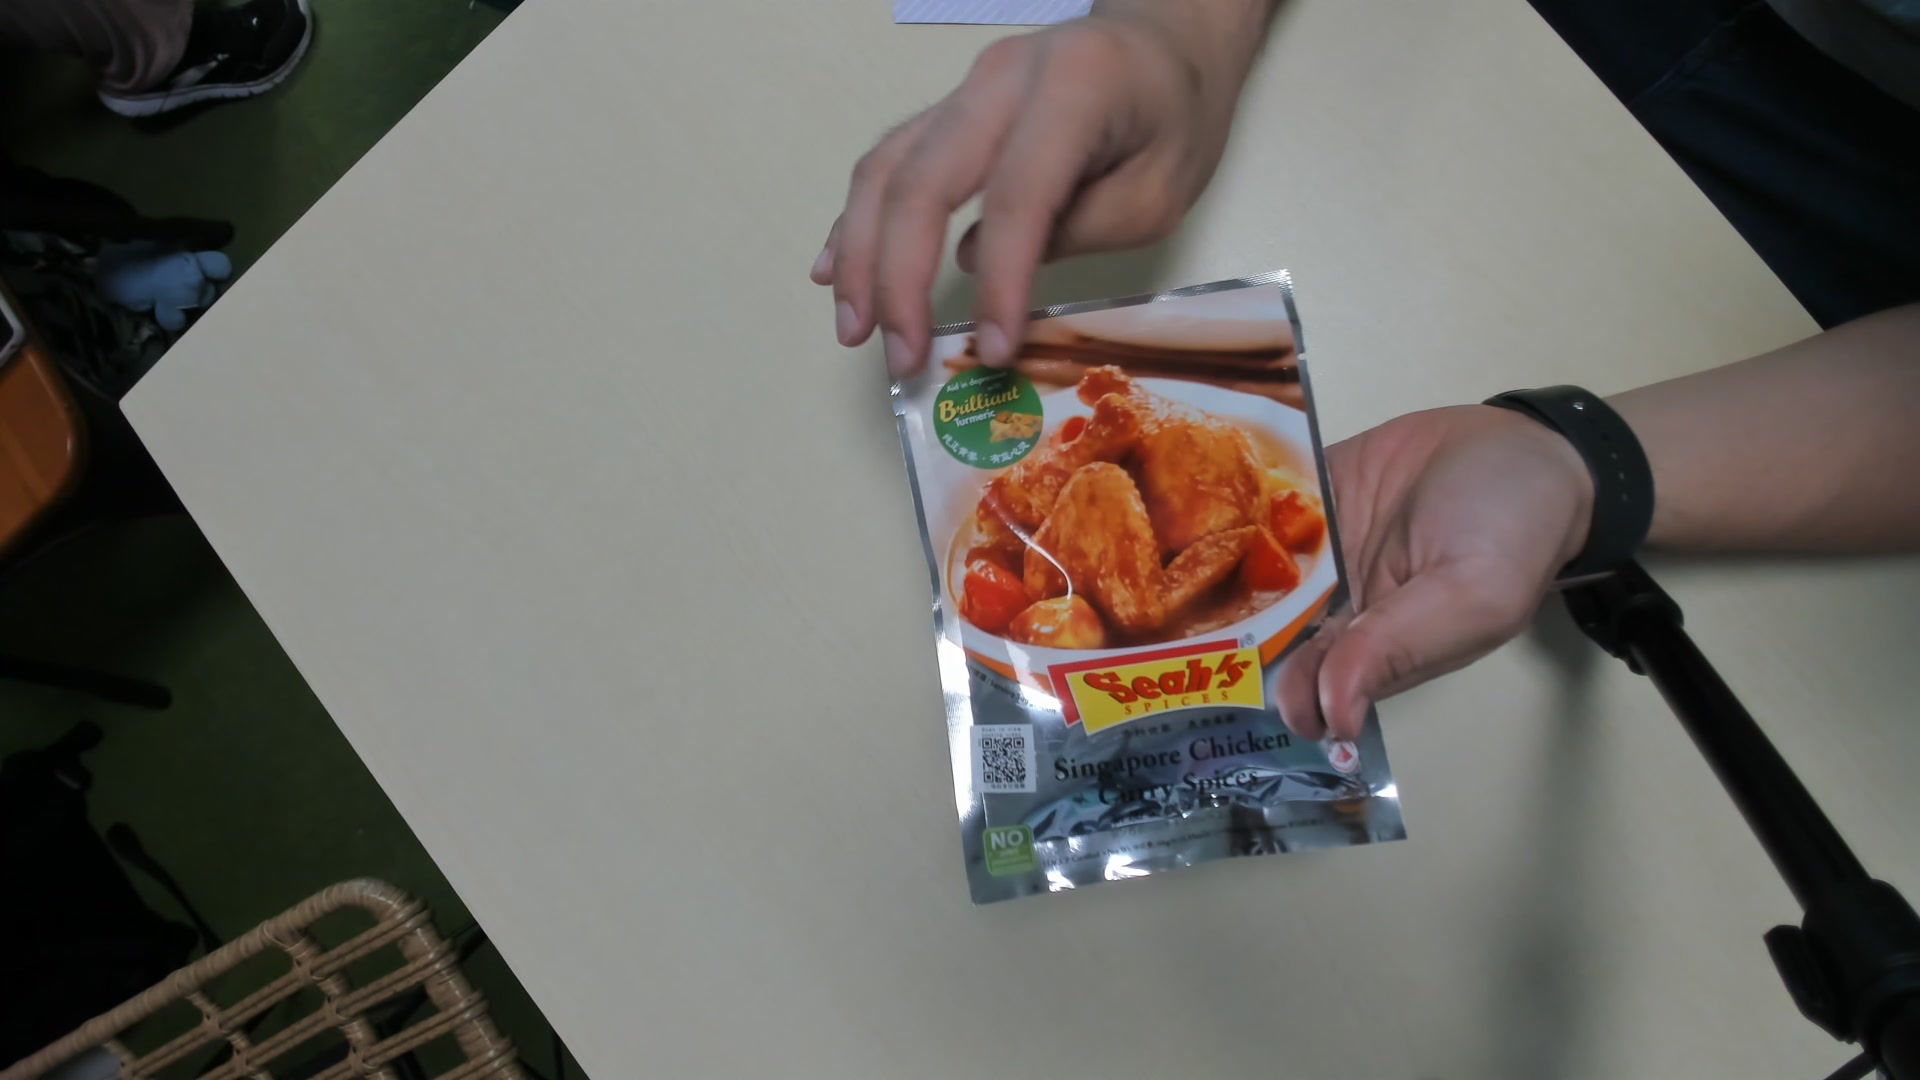CurryPastePowderSauce_0-99g_Halal_Healthy: (891, 272, 1408, 897)
